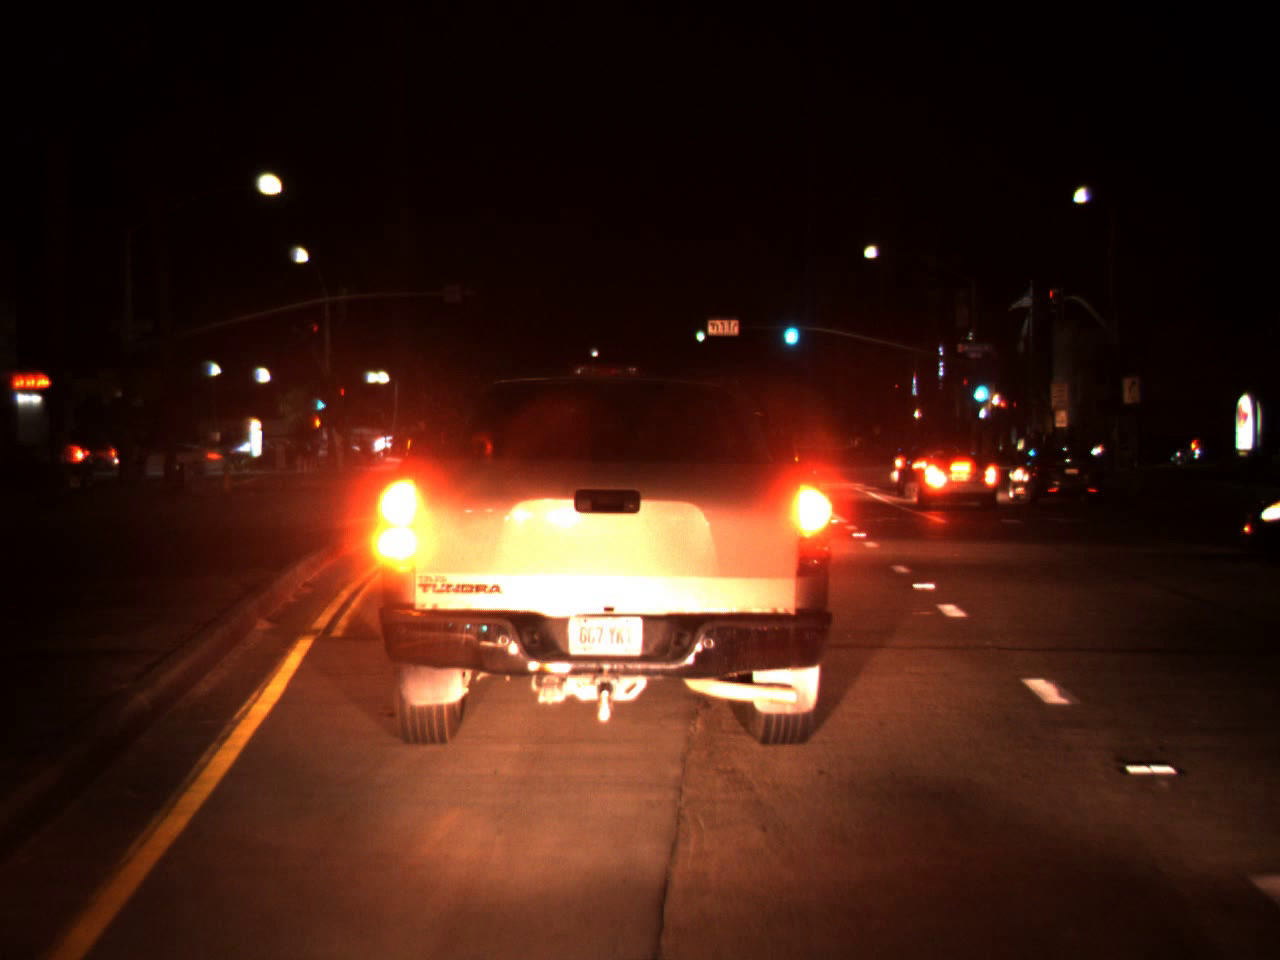go: (778, 304, 801, 352), (967, 366, 992, 408), (693, 318, 705, 345), (315, 393, 325, 411)
